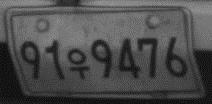1: (45, 39, 66, 82)
4: (115, 37, 143, 80)
6: (163, 34, 189, 79)
7: (136, 35, 159, 80)
9: (90, 37, 113, 80), (19, 39, 42, 81)
우: (64, 47, 90, 81)
